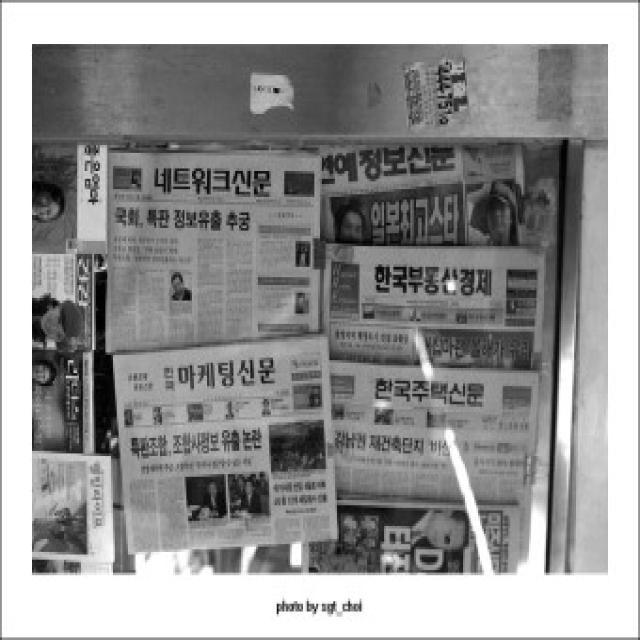Newspaper: (113, 341, 337, 551), (334, 363, 544, 577), (107, 155, 323, 352), (325, 242, 548, 370)
